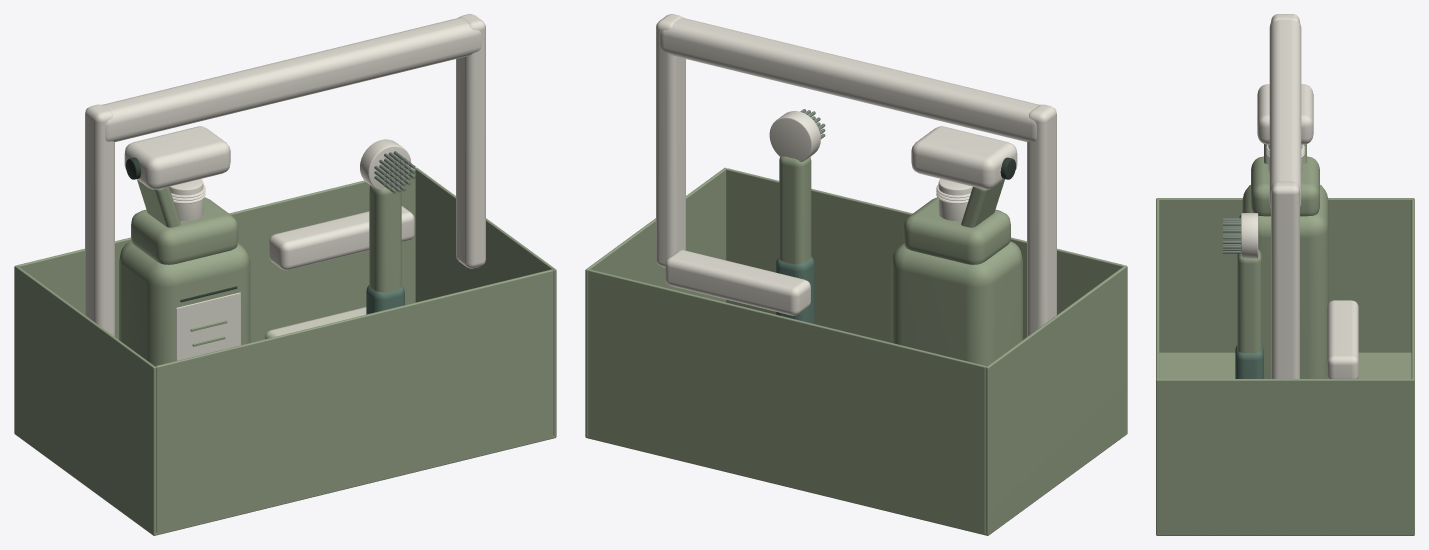
The model's file is renter.glb.
3 views of the same model, side by side, from view 1: azimuth 30°, elevation 25°; view 2: azimuth 150°, elevation 25°; view 3: azimuth 270°, elevation 25° (orthographic). The views are drawn at different scales.
Visible parts, largest first — view 1: Caddy walls front, Caddy walls left, Caddy walls back, Carry grip, Surface bottle molded body, Caddy walls right, Handle upright.001, Handle upright, Surface bottle trigger head, Surface bottle shoulder, Glass finishing head, Detail brush handle (+7 smaller); view 2: Caddy walls back, Caddy walls left, Caddy walls front, Carry grip, Surface bottle molded body, Caddy walls right, Handle upright.001, Handle upright, Glass finishing head, Surface bottle trigger head, Surface bottle shoulder, Detail brush handle (+5 smaller); view 3: Caddy walls right, Caddy walls left, Surface bottle molded body, Handle upright.001, Carry grip, Caddy walls floor, Glass finishing head, Detail brush handle, Surface bottle shoulder, Surface bottle trigger head, Detail brush head, Detail brush soft grip (+2 smaller).
Part boxes in pixels (<box>): Caddy walls front: <box>155,269,553,534</box>; Caddy walls left: <box>14,265,156,535</box>; Caddy walls back: <box>17,168,415,342</box>; Carry grip: <box>102,17,481,141</box>; Surface bottle molded body: <box>119,241,250,366</box>; Caddy walls right: <box>415,167,556,437</box>; Handle upright.001: <box>456,14,485,268</box>; Handle upright: <box>85,104,114,336</box>; Surface bottle trigger head: <box>124,126,230,189</box>; Surface bottle shoulder: <box>131,197,238,264</box>; Glass finishing head: <box>269,206,414,270</box>; Detail brush handle: <box>369,185,401,292</box>; Caddy walls back: <box>588,269,986,534</box>; Caddy walls left: <box>985,265,1127,535</box>; Caddy walls front: <box>726,168,1124,342</box>; Carry grip: <box>660,17,1039,141</box>; Surface bottle molded body: <box>891,241,1022,366</box>; Caddy walls right: <box>585,167,726,436</box>; Handle upright.001: <box>656,14,685,267</box>; Handle upright: <box>1027,104,1056,336</box>; Glass finishing head: <box>665,250,810,315</box>; Surface bottle trigger head: <box>911,126,1017,189</box>; Surface bottle shoulder: <box>903,197,1010,264</box>; Detail brush handle: <box>779,156,811,264</box>; Caddy walls right: <box>1156,379,1414,535</box>; Caddy walls left: <box>1156,198,1414,352</box>; Surface bottle molded body: <box>1242,185,1328,378</box>; Handle upright.001: <box>1271,181,1299,378</box>; Carry grip: <box>1269,19,1301,207</box>; Caddy walls floor: <box>1156,352,1414,535</box>; Glass finishing head: <box>1327,300,1358,378</box>; Detail brush handle: <box>1237,249,1261,352</box>; Surface bottle shoulder: <box>1251,156,1319,216</box>; Surface bottle trigger head: <box>1257,84,1313,144</box>; Detail brush head: <box>1241,213,1258,258</box>; Detail brush soft grip: <box>1235,345,1263,378</box>.
Size of the model in its own units: 0.3 by 0.265 by 0.18.
